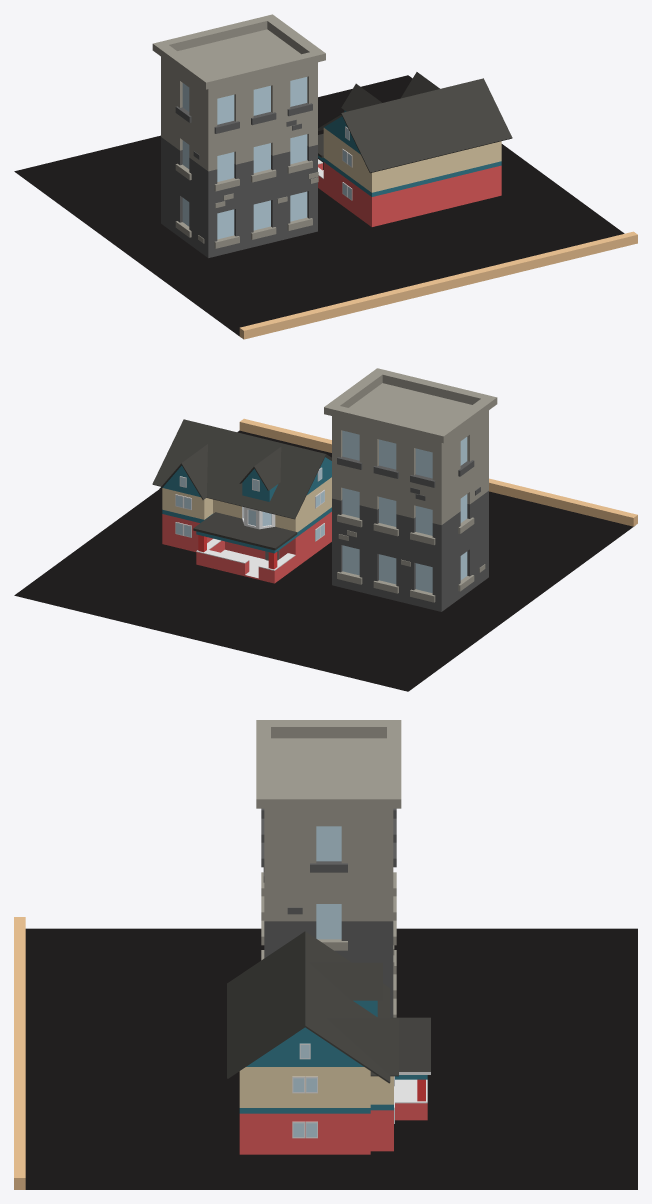
File: Tile 24_Combined.fbx
3 renders of one model, top to bottom at view 1: azimuth 30°, elevation 25°; view 2: azimuth 150°, elevation 25°; view 3: azimuth 270°, elevation 25°, orthographic. The views are drawn at different scales.
Parts seen in each view (by area): view 1: MeshBaker_Cluster_0_mesh_mesh; view 2: MeshBaker_Cluster_0_mesh_mesh; view 3: MeshBaker_Cluster_0_mesh_mesh.
Boxes of the visible parts, <box> form: MeshBaker_Cluster_0_mesh_mesh: <box>14,14,637,339</box>; MeshBaker_Cluster_0_mesh_mesh: <box>14,368,637,691</box>; MeshBaker_Cluster_0_mesh_mesh: <box>14,720,637,1189</box>.
Bounding box in the file's own units: 3000 × 1301 × 3029.
